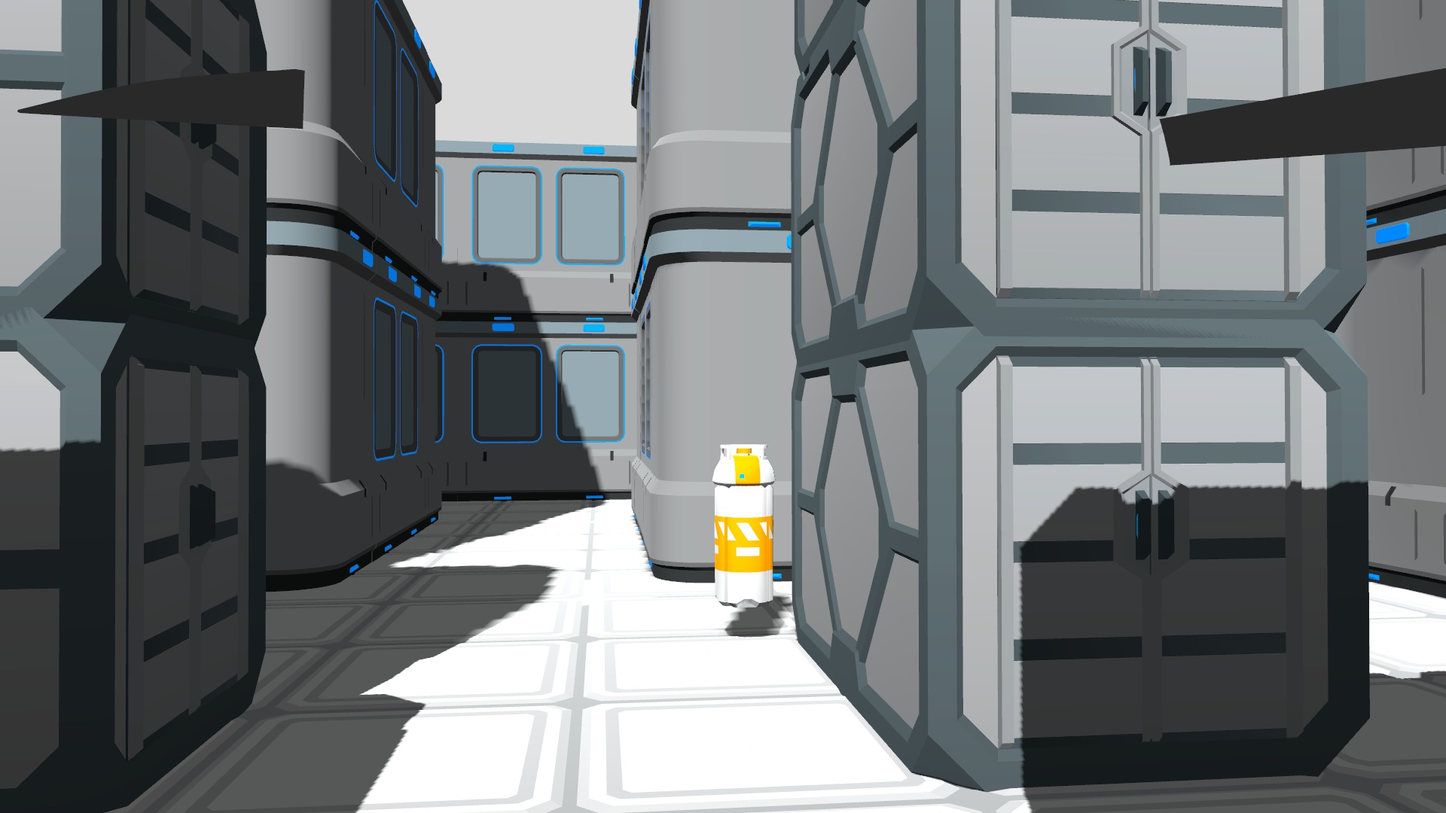yellow_barrel: (705, 436, 777, 614)
